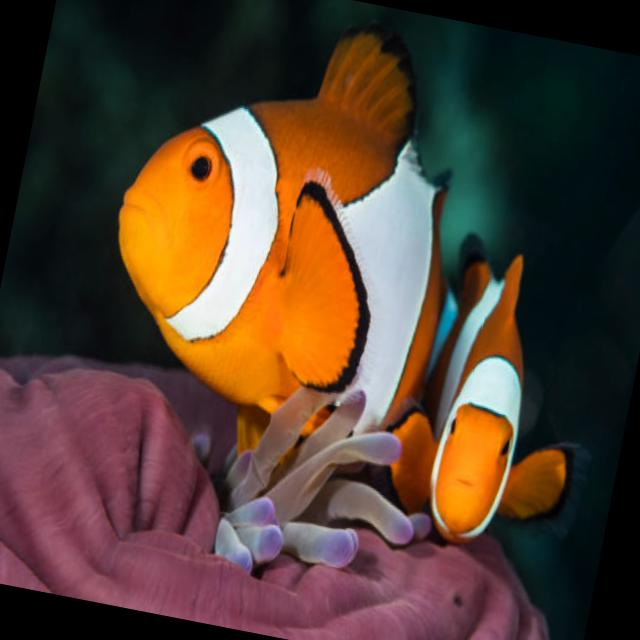ClownFish: (75, 0, 486, 472), (376, 220, 628, 577)
